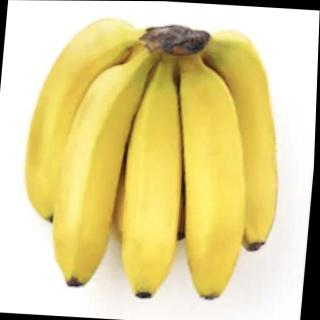banana: (18, 10, 140, 228), (48, 60, 150, 292), (160, 65, 259, 303), (190, 28, 294, 253), (113, 74, 195, 306)
